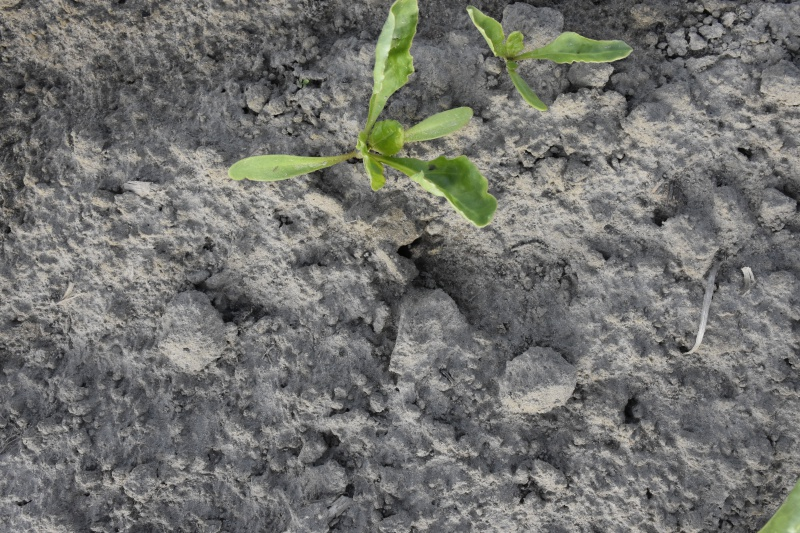sugar beet: (228, 1, 498, 232), (461, 2, 634, 116)
